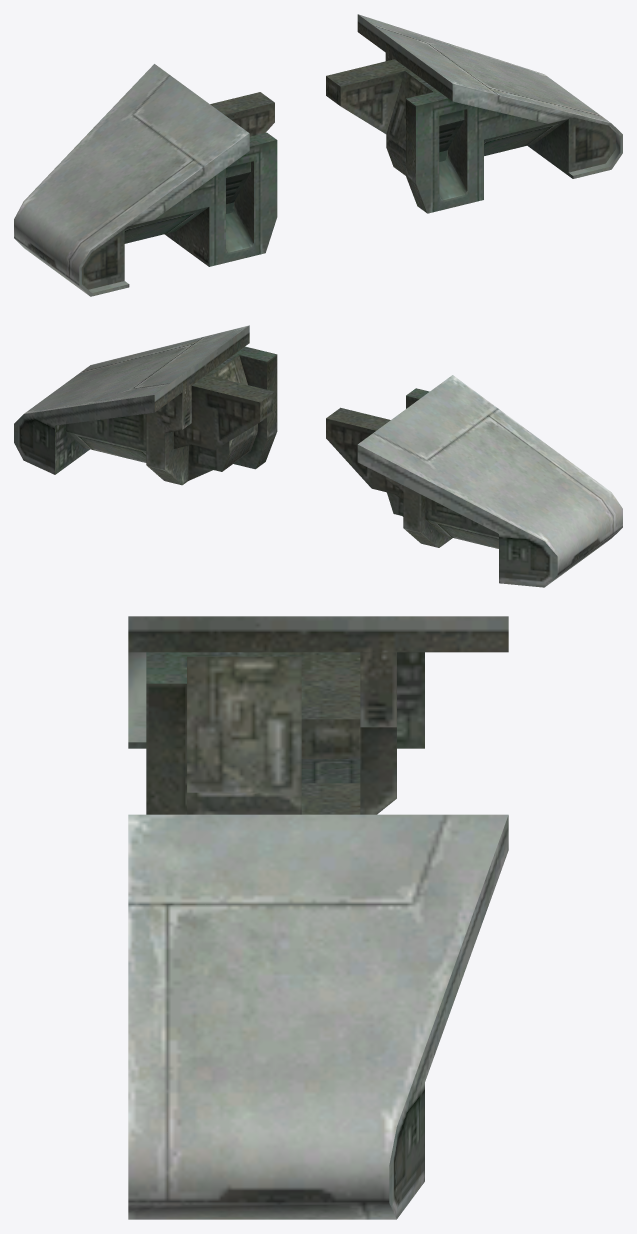
File: black_sun_fighter_light_struct_s01_l0.fbx
The picture shows the model from 3 angles, top to bottom: view 1: azimuth 30°, elevation 25°; view 2: azimuth 150°, elevation 25°; view 3: azimuth 270°, elevation 25°; orthographic projection. The views are drawn at different scales.
Visible parts, largest first — view 1: mesh_node; view 2: mesh_node; view 3: mesh_node.
Part boxes in pixels (x1,y1,x2,y2): mesh_node: (14,14,622,296); mesh_node: (14,325,622,587); mesh_node: (128,616,508,1219).
Size of the model in its own units: 12.16 by 2.74 by 3.68.
